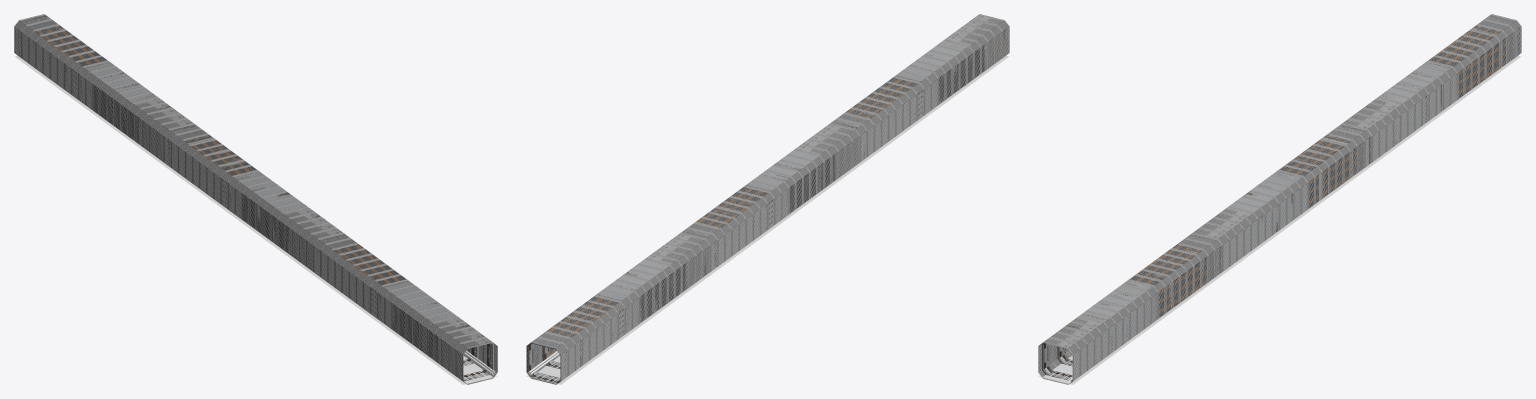
The model's file is SciFi Hallway.fbx.
The picture shows the model from 3 angles, left to right: view 1: azimuth 30°, elevation 25°; view 2: azimuth 150°, elevation 25°; view 3: azimuth 330°, elevation 25°; orthographic projection.
Parts seen in each view (by area): view 1: Plane; view 2: Plane; view 3: Plane.
Part boxes in pixels (bbox=[...]): Plane: bbox=[14, 14, 497, 384]; Plane: bbox=[526, 14, 1009, 384]; Plane: bbox=[1038, 14, 1521, 384].
Size of the model in its own units: 203 by 203 by 4510.
